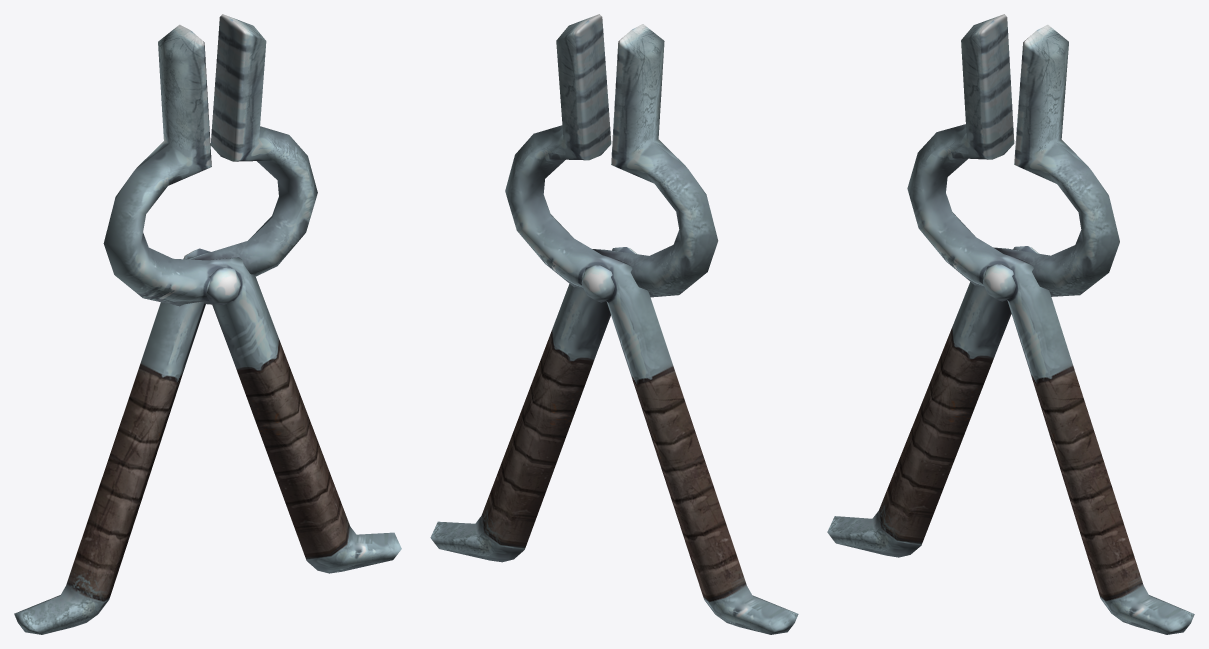
The model's file is Tongs3.fbx.
3 views of the same model, side by side, from view 1: azimuth 30°, elevation 25°; view 2: azimuth 150°, elevation 25°; view 3: azimuth 330°, elevation 25° (orthographic).
Parts seen in each view (by area): view 1: mesh3; view 2: mesh3; view 3: mesh3.
Part boxes in pixels (x1,y1,x2,y2): mesh3: (14,14,401,634); mesh3: (430,14,798,634); mesh3: (827,14,1194,634).
Size of the model in its own units: 6.62 by 9.77 by 1.21.
